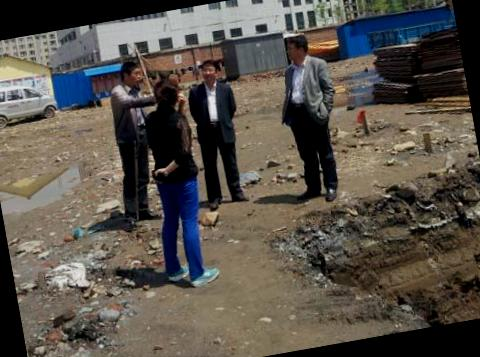no_helmet: (150, 73, 187, 114), (280, 25, 312, 64), (117, 54, 146, 88), (198, 53, 226, 84)
